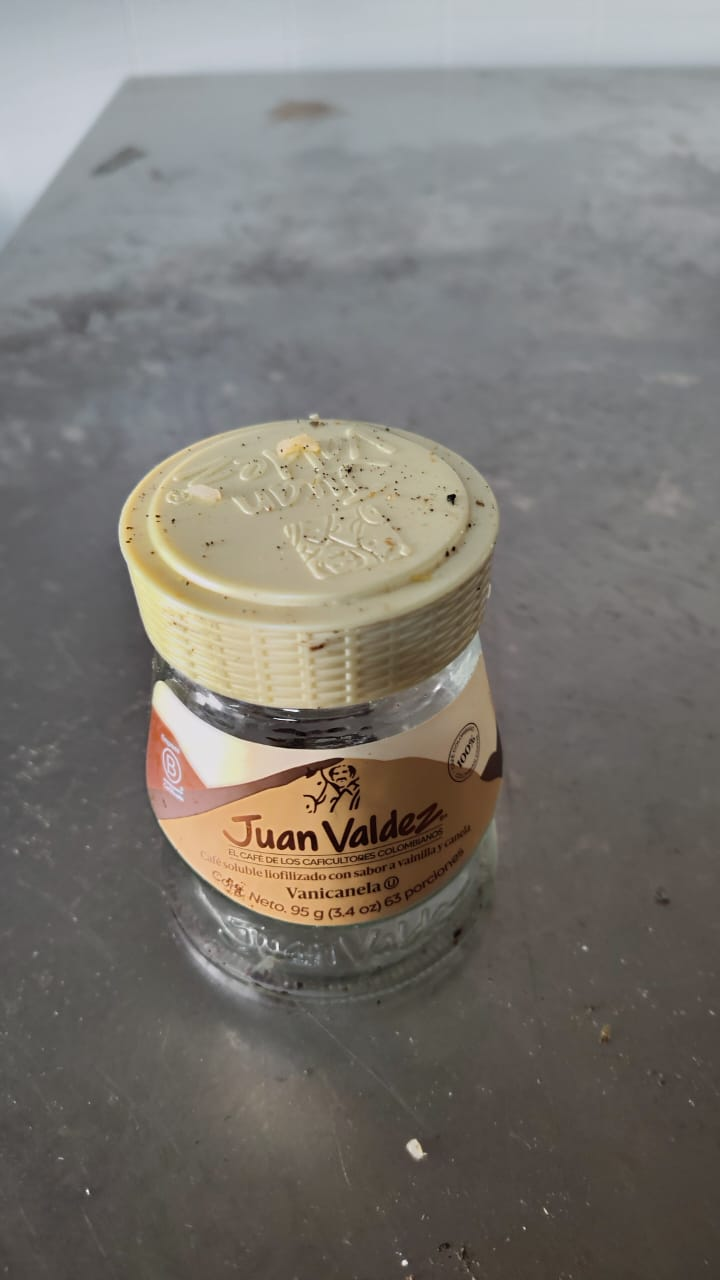Plastico: (120, 421, 503, 700)
Vidrio: (136, 703, 507, 934)
